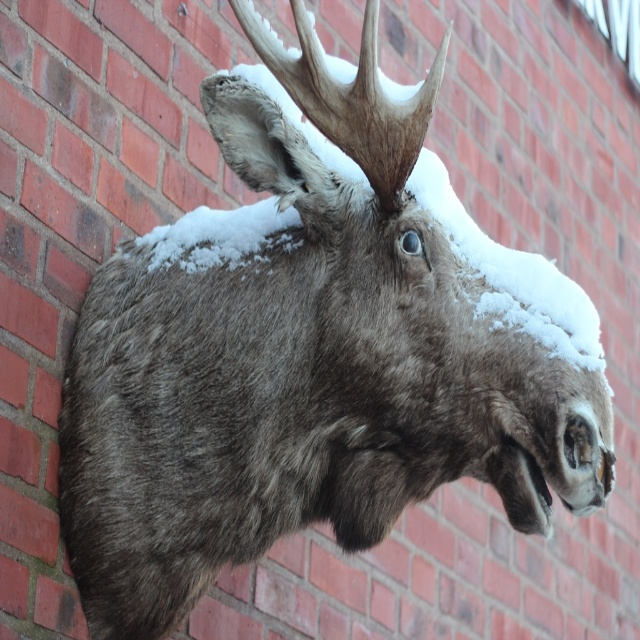Deer: (56, 0, 617, 635)
